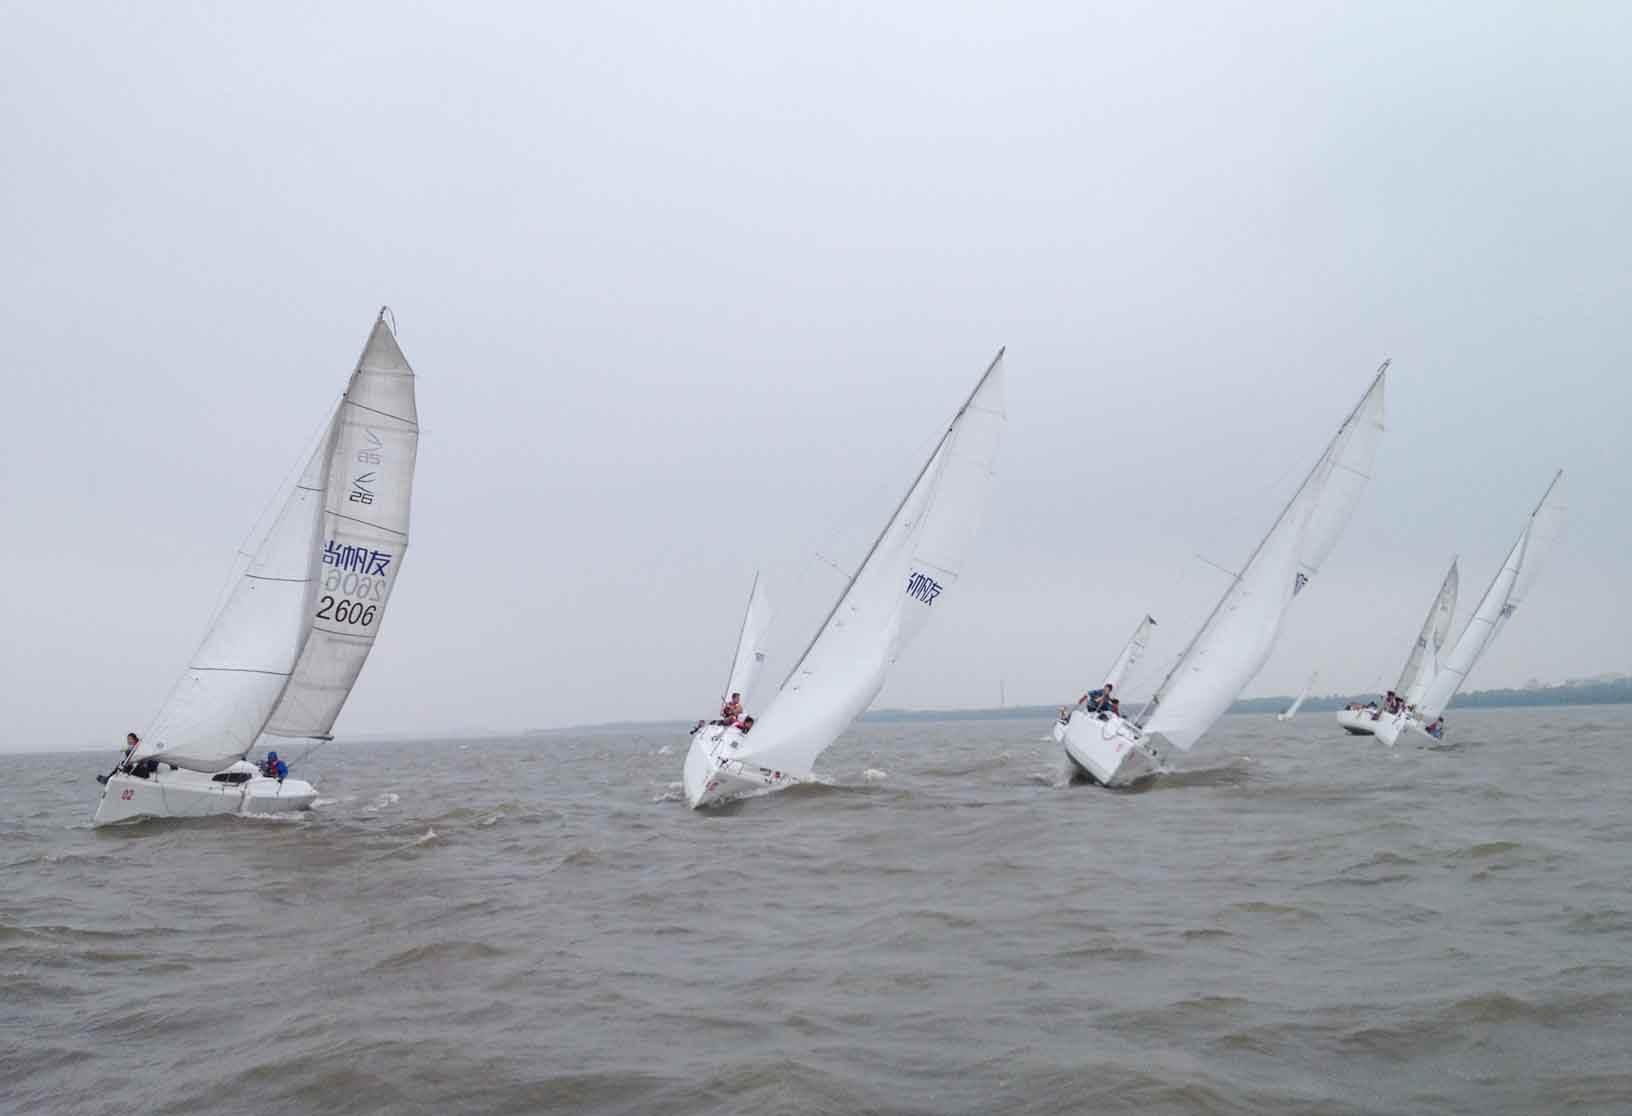fanchuan: (93, 308, 437, 837), (671, 331, 1043, 817), (1049, 357, 1408, 787), (1349, 458, 1572, 749)
